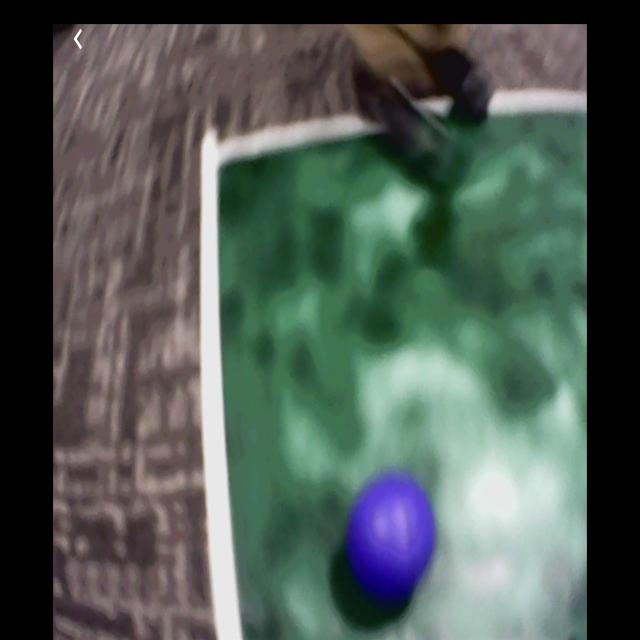ball: (347, 475, 436, 597)
